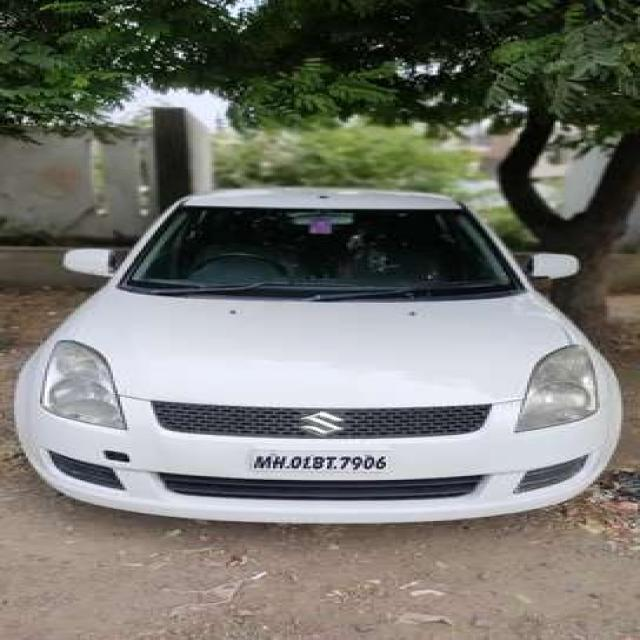plate: (250, 449, 392, 474)
